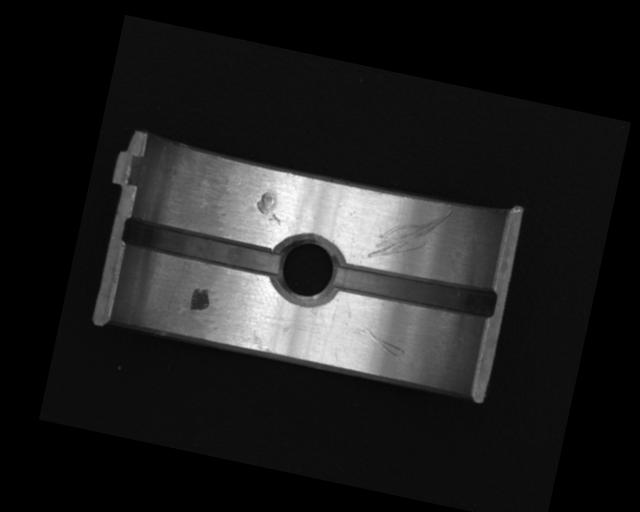blot: (188, 286, 212, 314)
bruise: (253, 189, 286, 225)
gap: (330, 255, 500, 324), (121, 217, 283, 278)
hole: (264, 226, 347, 311)
nick: (365, 196, 453, 273), (353, 323, 408, 359)
